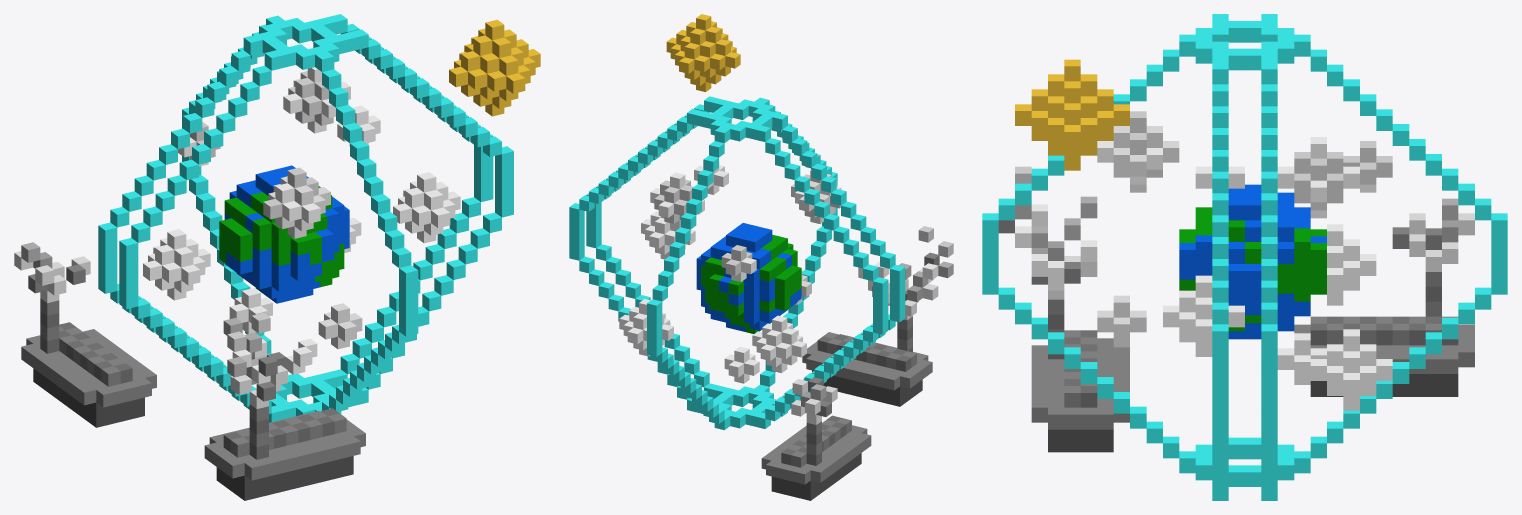
File: industrial-vox.glb
3 views of the same model, side by side, from view 1: azimuth 30°, elevation 25°; view 2: azimuth 150°, elevation 25°; view 3: azimuth 270°, elevation 25° (orthographic). The views are drawn at different scales.
Parts seen in each view (by area): view 1: industrial; view 2: industrial; view 3: industrial.
Boxes of the visible parts, x1,y1,x2,y2 form: industrial: (14,14,540,500); industrial: (569,14,953,500); industrial: (982,14,1507,500).
Bounding box in the file's own units: 3.2 × 3.2 × 3.2.
Materials: 1 (1 with a texture image).
